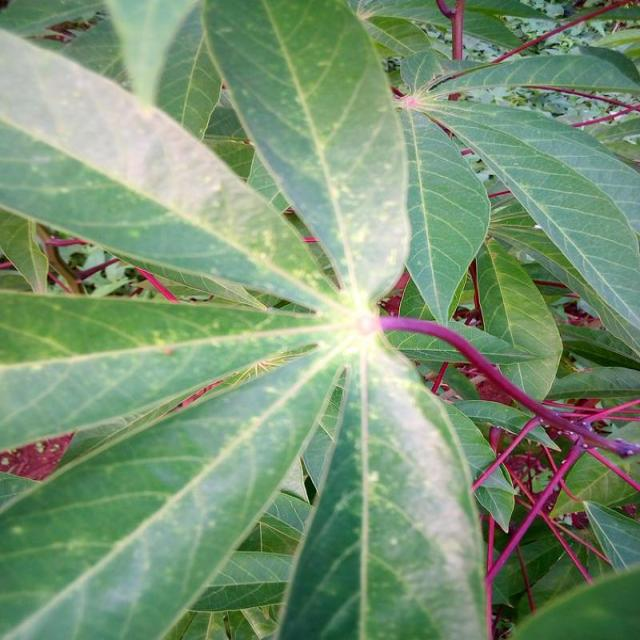cassava leaf: (0, 1, 638, 638), (201, 0, 413, 306)
